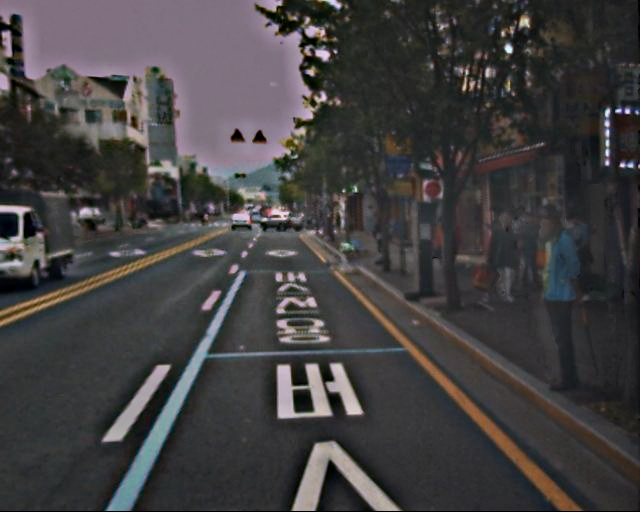person: (507, 205, 594, 388), (481, 208, 522, 306), (554, 214, 599, 297), (512, 211, 547, 288), (370, 215, 388, 260)
